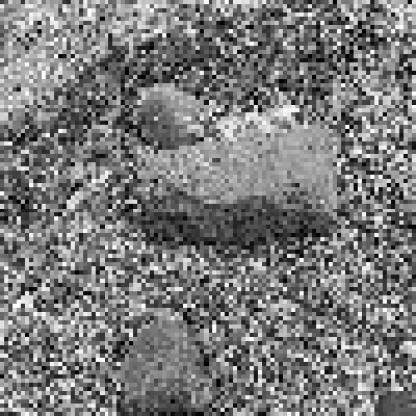brick: (129, 127, 338, 243), (119, 320, 225, 412), (133, 83, 203, 147)
